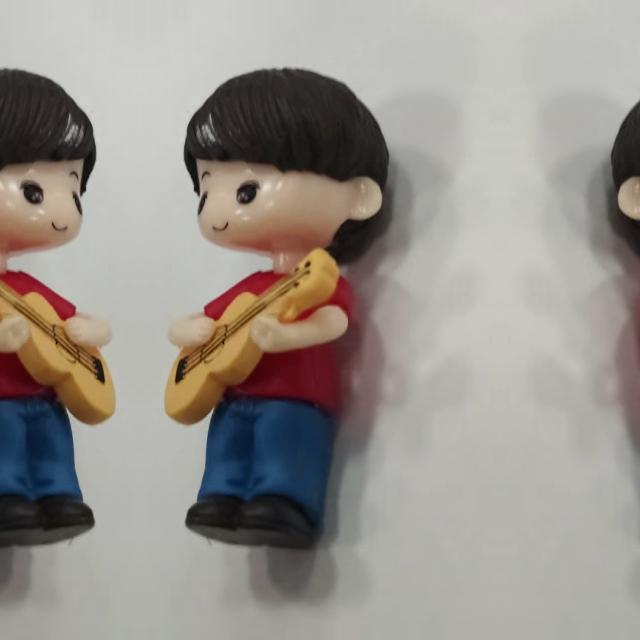man cloth: (168, 252, 388, 414), (0, 251, 111, 414), (612, 251, 640, 414)
man head: (180, 65, 396, 253), (0, 65, 99, 253), (604, 65, 640, 253)
trousers: (183, 404, 333, 544), (0, 404, 97, 543)
